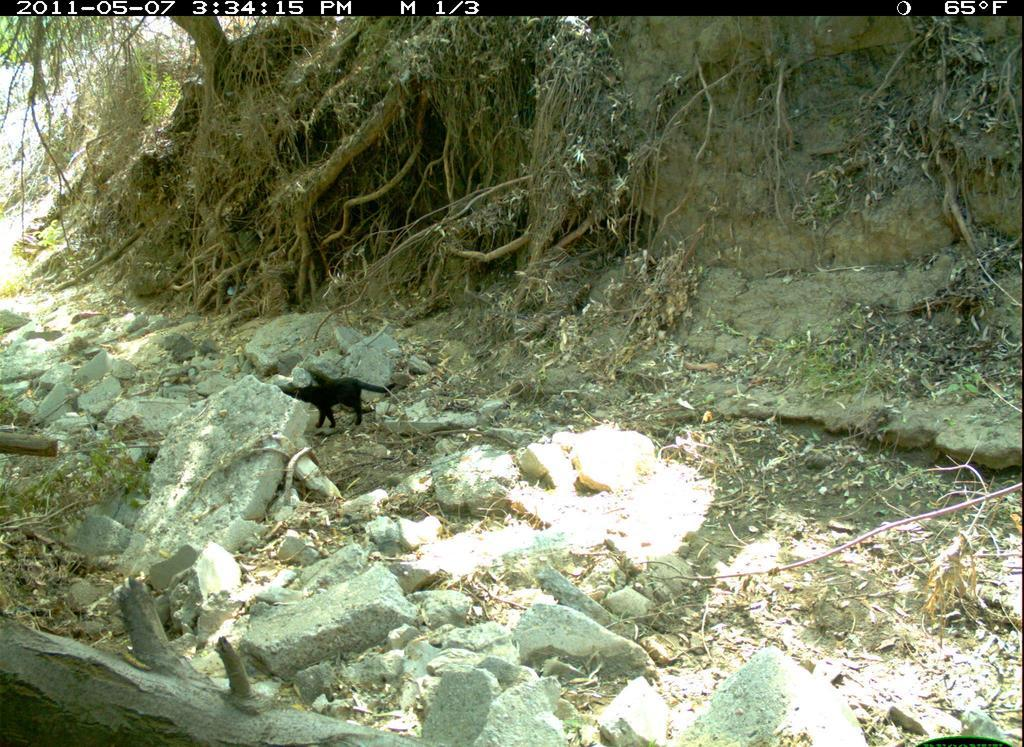cat: (262, 361, 402, 443)
